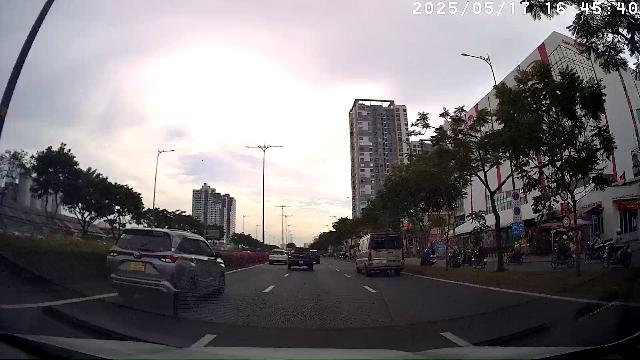127-toc-do-toi-da-50: (561, 216, 571, 228)
